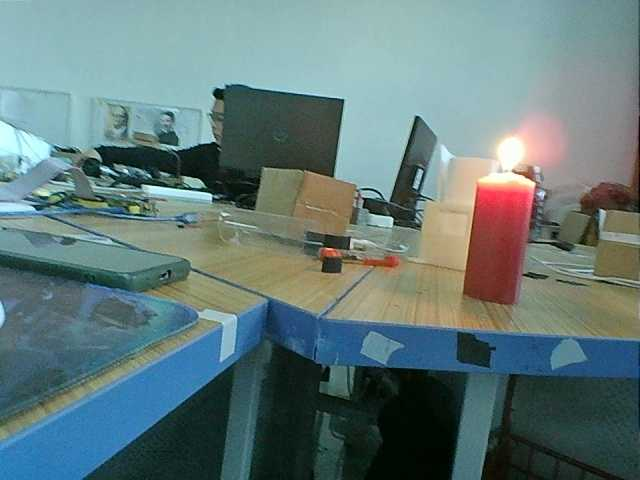candle: (448, 173, 544, 307)
fire: (473, 122, 536, 190)
